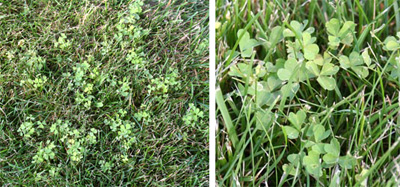oxalis: (245, 5, 358, 177)
